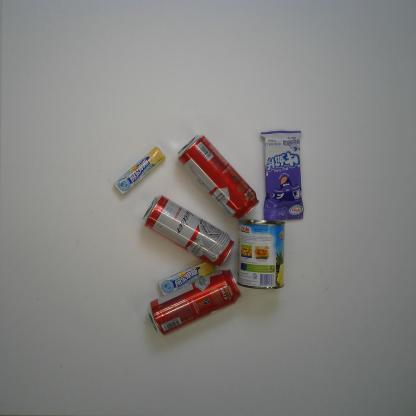Alcohol: (177, 133, 259, 221), (142, 194, 235, 267), (146, 269, 242, 336)
Candy: (260, 130, 304, 221), (112, 146, 166, 195), (157, 260, 215, 298)
Canned Food: (236, 219, 286, 291)
